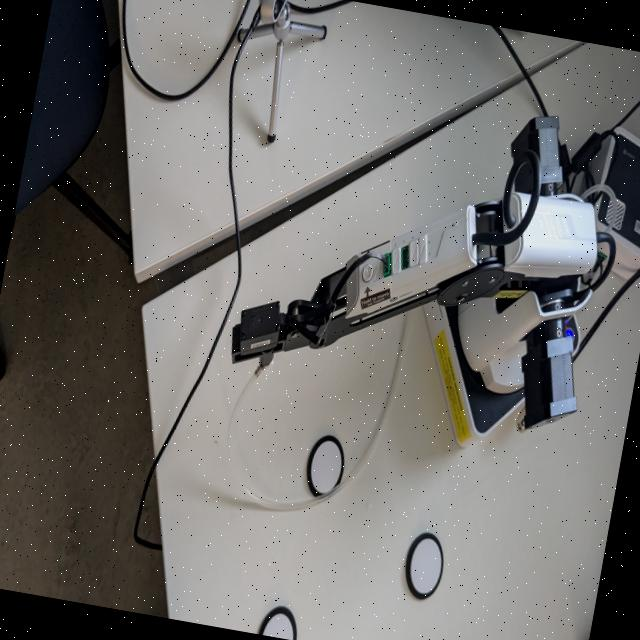Robot-end-effector-HF8z: (222, 292, 294, 384)
